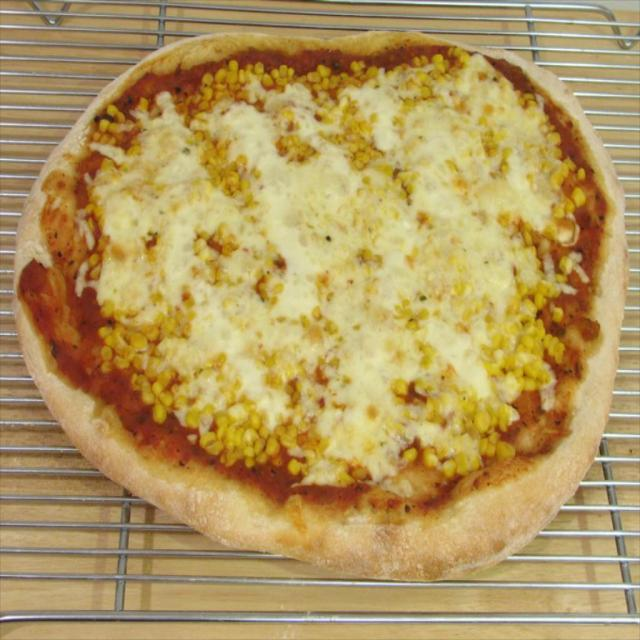Pizza: (0, 25, 606, 591)
